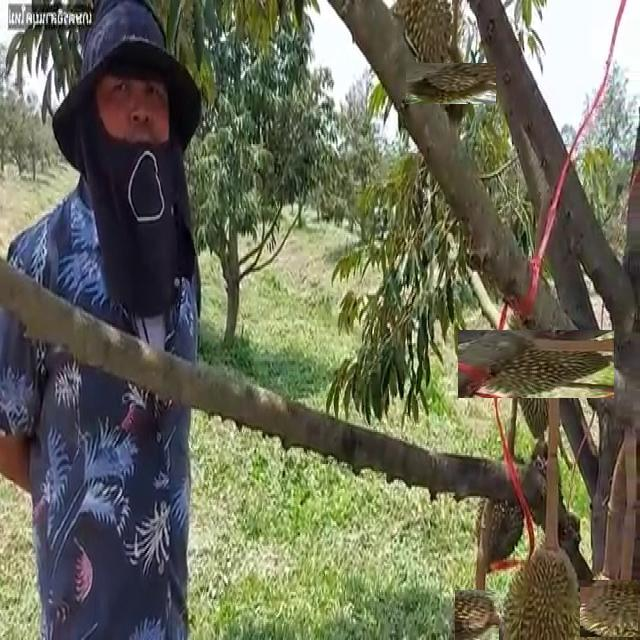durian: (480, 308, 592, 421), (499, 538, 584, 638), (478, 462, 535, 574), (418, 50, 484, 116), (580, 580, 638, 638), (453, 591, 502, 640)
